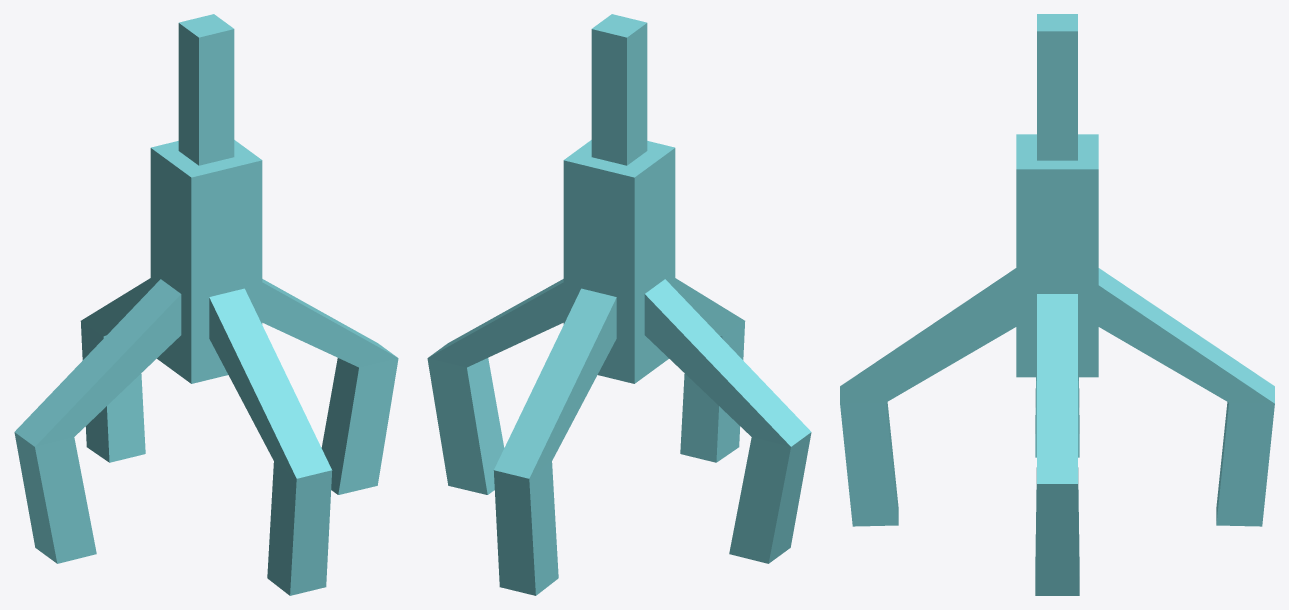
The model's file is chomp.fbx.
The picture shows the model from 3 angles, left to right: view 1: azimuth 30°, elevation 25°; view 2: azimuth 150°, elevation 25°; view 3: azimuth 270°, elevation 25°; orthographic projection.
Parts seen in each view (by area): view 1: Cube; view 2: Cube; view 3: Cube.
Part boxes in pixels (x1,y1,x2,y2): Cube: [14, 14, 398, 595]; Cube: [427, 14, 811, 595]; Cube: [840, 14, 1274, 595].
Bounding box in the file's own units: 390 × 503 × 401.
